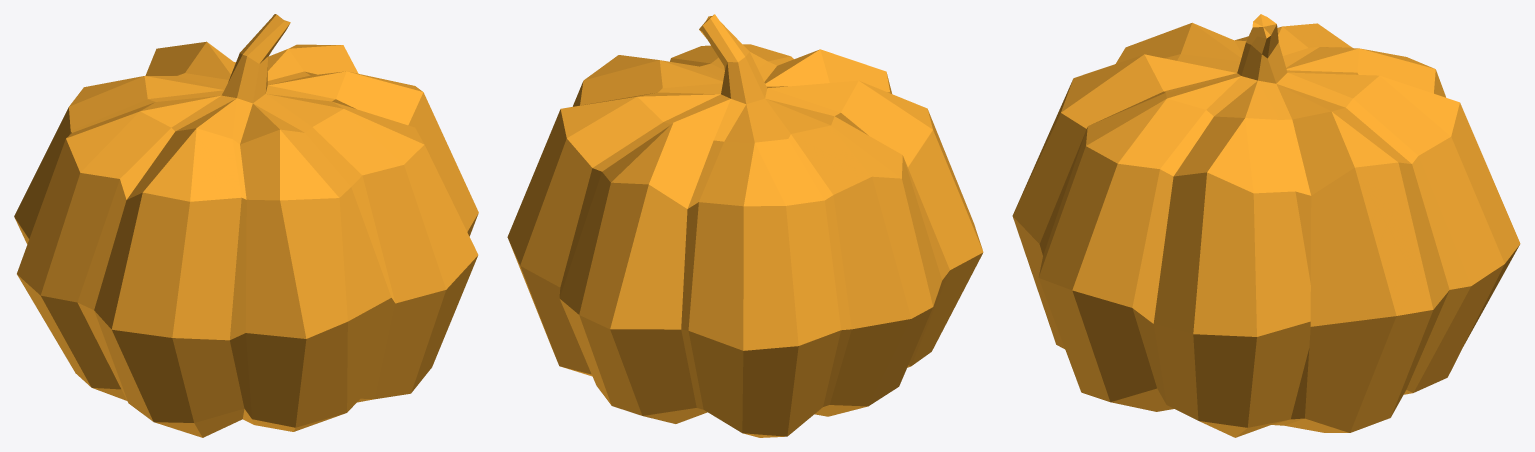
File: SM_Pumpkin_E.fbx
3 renders of one model, left to right at view 1: azimuth 30°, elevation 25°; view 2: azimuth 150°, elevation 25°; view 3: azimuth 270°, elevation 25°, orthographic. The views are drawn at different scales.
Parts seen in each view (by area): view 1: pumpkin-e; view 2: pumpkin-e; view 3: pumpkin-e.
Boxes of the visible parts, x1,y1,x2,y2 form: pumpkin-e: [14, 14, 478, 437]; pumpkin-e: [507, 14, 983, 437]; pumpkin-e: [1012, 14, 1520, 437].
Size of the model in its own units: 0.2706 by 0.2374 by 0.2748.
